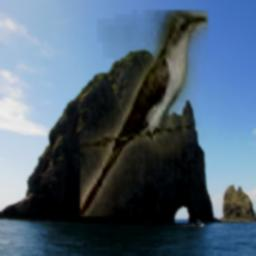Cuckoo: (81, 11, 209, 217)
